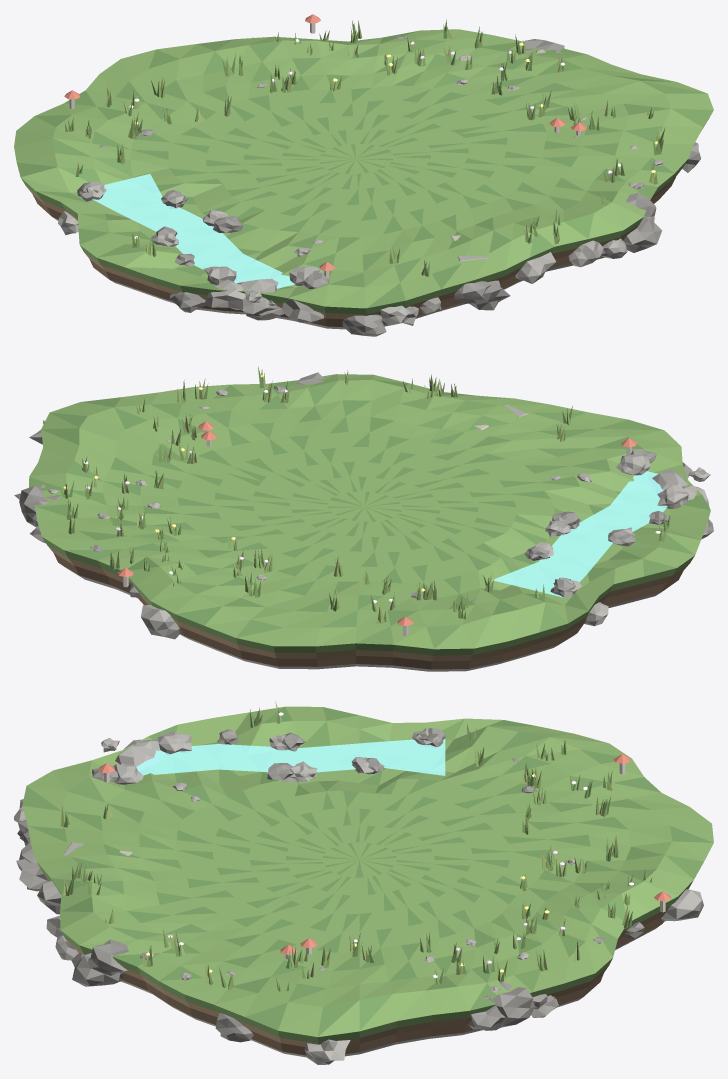
The model's file is terrain.glb.
3 views of the same model, one above another, from view 1: azimuth 30°, elevation 25°; view 2: azimuth 150°, elevation 25°; view 3: azimuth 270°, elevation 25° (orthographic). The views are drawn at different scales.
Bounding box in the file's own units: 0.7836 × 0.0703 × 0.6923.
